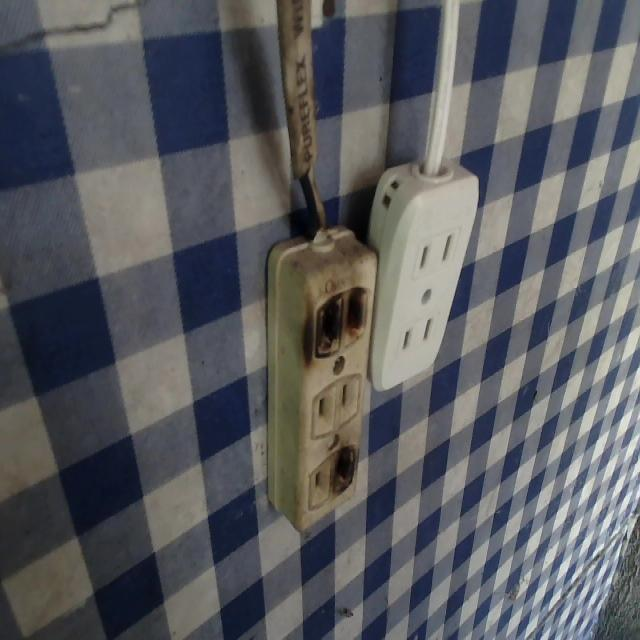-: (301, 281, 380, 359), (327, 442, 359, 502)
